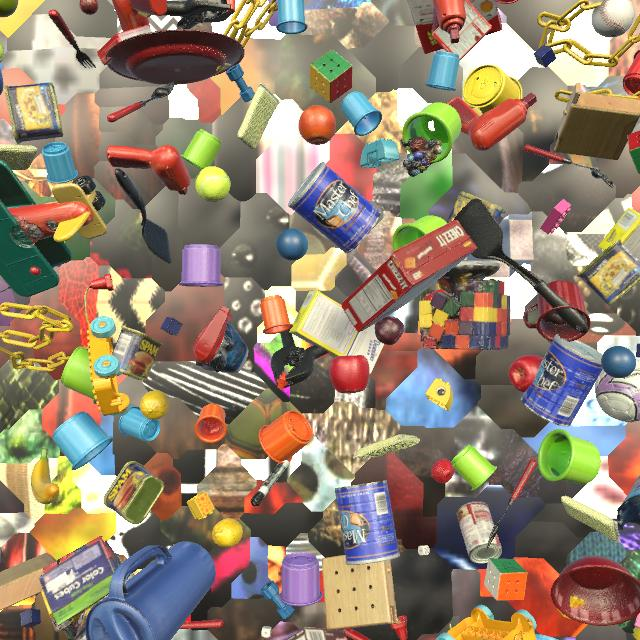ycb_002_master_chef_can: (288, 162, 381, 254), (521, 334, 603, 427), (335, 480, 400, 565)
ycb_003_cracker_box: (341, 220, 477, 332), (407, 0, 502, 54)
ycb_004_sugar_box: (289, 290, 384, 374), (598, 208, 640, 260)
ycb_005_tomato_soup_can: (457, 501, 502, 564)
ycb_008_pudding_box: (286, 627, 348, 640)
ycb_009_gelatin_box: (432, 0, 492, 60), (97, 24, 153, 65)
ycb_010_potted_meat_can: (577, 239, 640, 306), (103, 461, 164, 524), (4, 82, 63, 144), (112, 326, 163, 381), (446, 191, 506, 225)
ycb_011_banana: (31, 448, 60, 504)
ycb_012_strawberry: (431, 459, 455, 483), (424, 289, 448, 301)
ycb_013_apple: (329, 355, 369, 393), (509, 355, 543, 393)
ycb_014_lemon: (212, 518, 243, 547), (140, 390, 169, 420)
ycb_016_pear: (0, 0, 18, 18)
ycb_017_orange: (298, 105, 336, 145)
ycb_018_plum: (375, 316, 404, 345)
